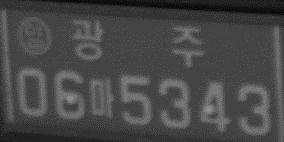0: (16, 67, 49, 117)
3: (157, 78, 193, 130), (237, 83, 272, 136)
4: (198, 80, 232, 132)
5: (119, 74, 153, 126)
6: (54, 69, 87, 121)
광주_D: (70, 18, 204, 68)
마: (89, 76, 116, 119)
영: (14, 16, 52, 57)
